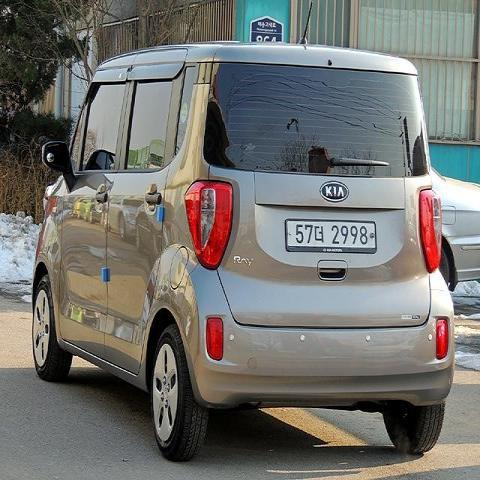LP: (282, 212, 380, 258)
